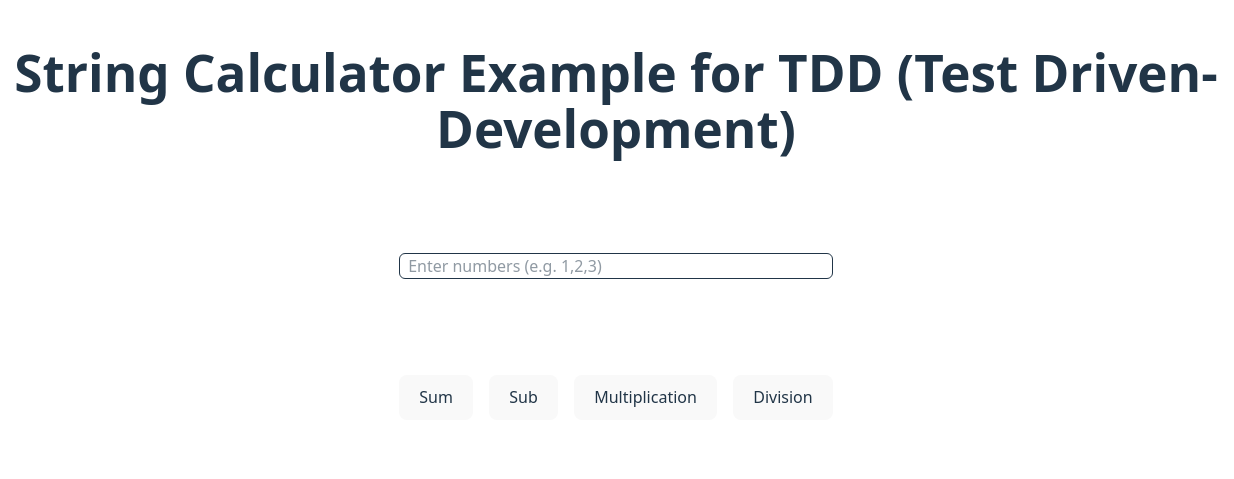
divide numbers separated by comma.
The width and height of the screenshot is (1234, 479).
Type "20,5" into the field at (616, 266), box [399,253,833,279]
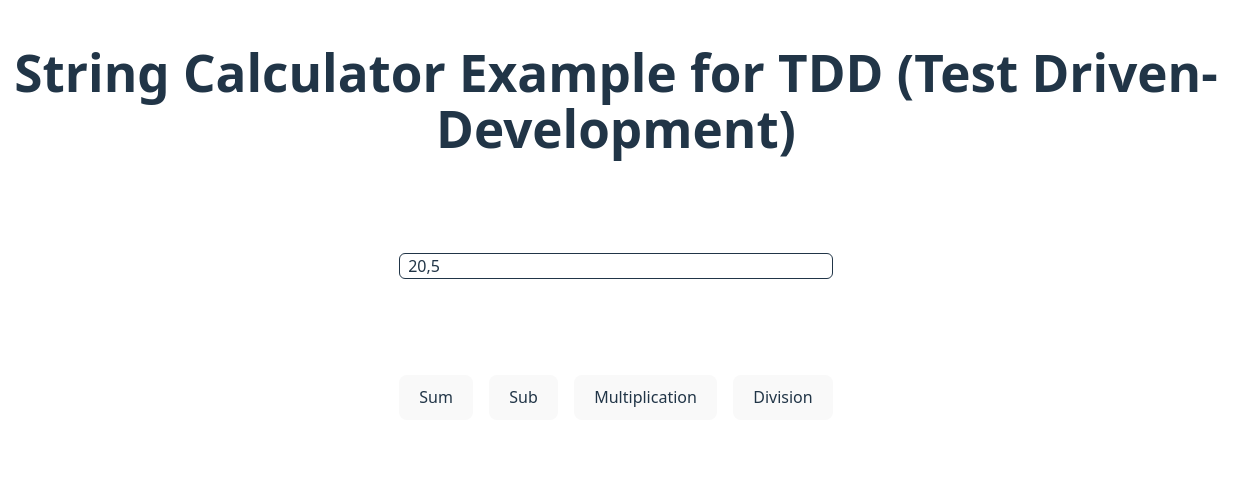
Click the button "Division" at (783, 397), box [733,375,833,420]
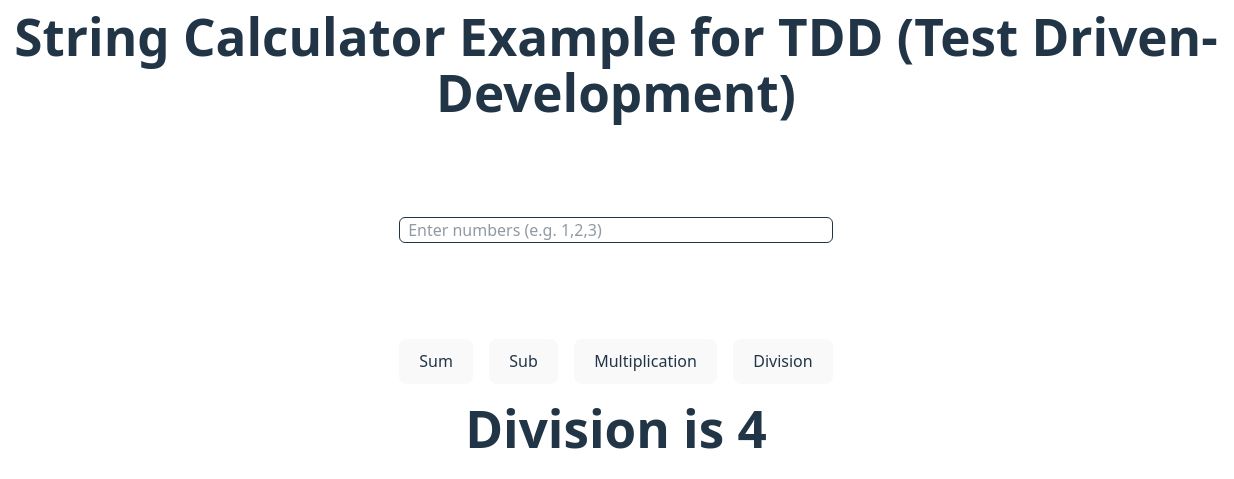
Check: the heading "Division is 4" is shown, box [465,393,767,463]
